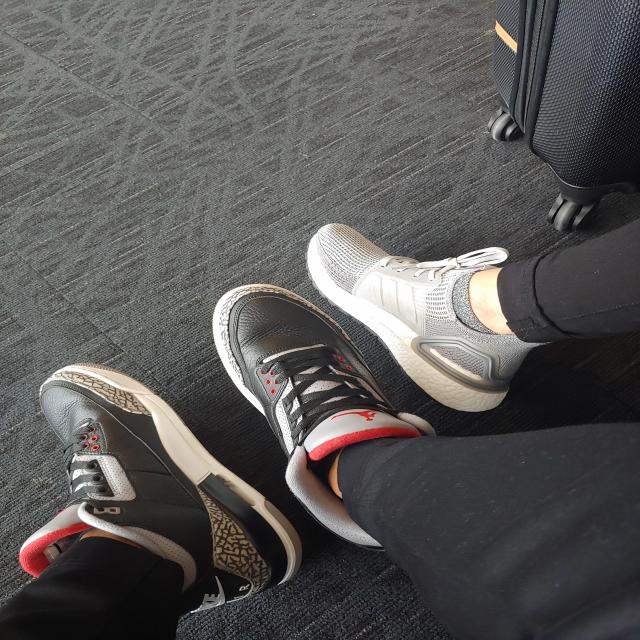shoe: (1, 353, 306, 623), (204, 276, 451, 560), (294, 213, 554, 425)
